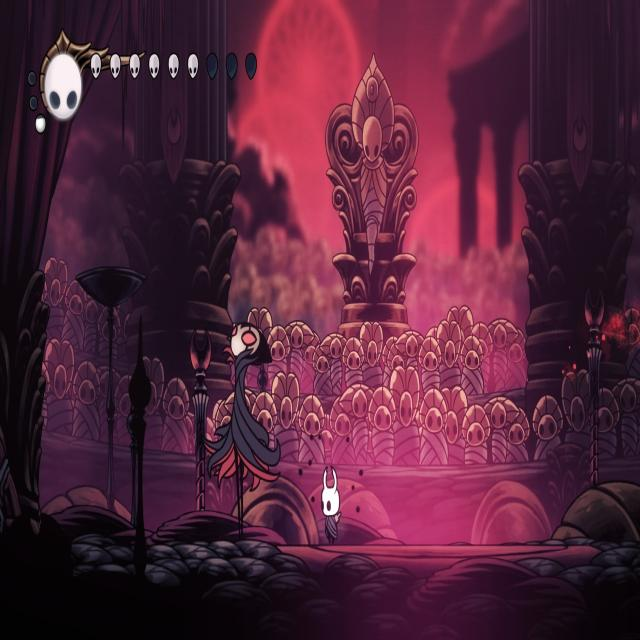Grimm: (202, 306, 281, 551)
Player: (317, 460, 343, 547)
